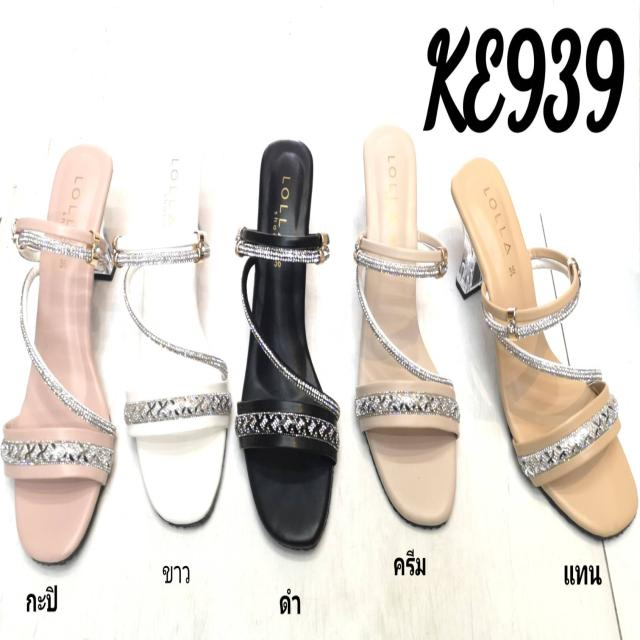black: (240, 139, 336, 549)
cream: (364, 126, 459, 532)
kapi: (13, 144, 118, 561)
tan: (449, 152, 640, 540)
white: (131, 135, 226, 524)
